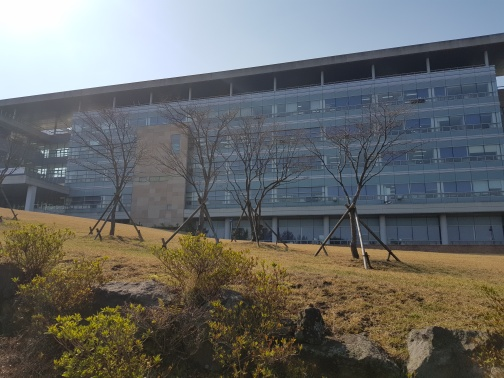Engineering College Building 4: (5, 71, 501, 225), (247, 38, 495, 250), (51, 81, 240, 231)
